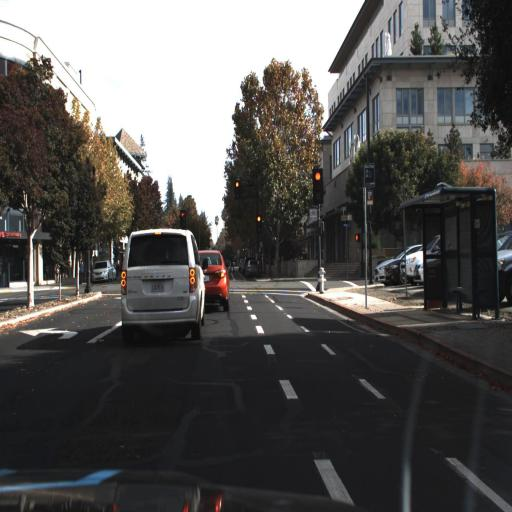car: (110, 224, 208, 346), (199, 243, 231, 313), (397, 246, 431, 285), (88, 256, 113, 286)
trafficLight-Red: (308, 163, 325, 212), (233, 173, 243, 206), (254, 209, 265, 236)
trafficLight-RedLeft: (177, 205, 188, 225)
